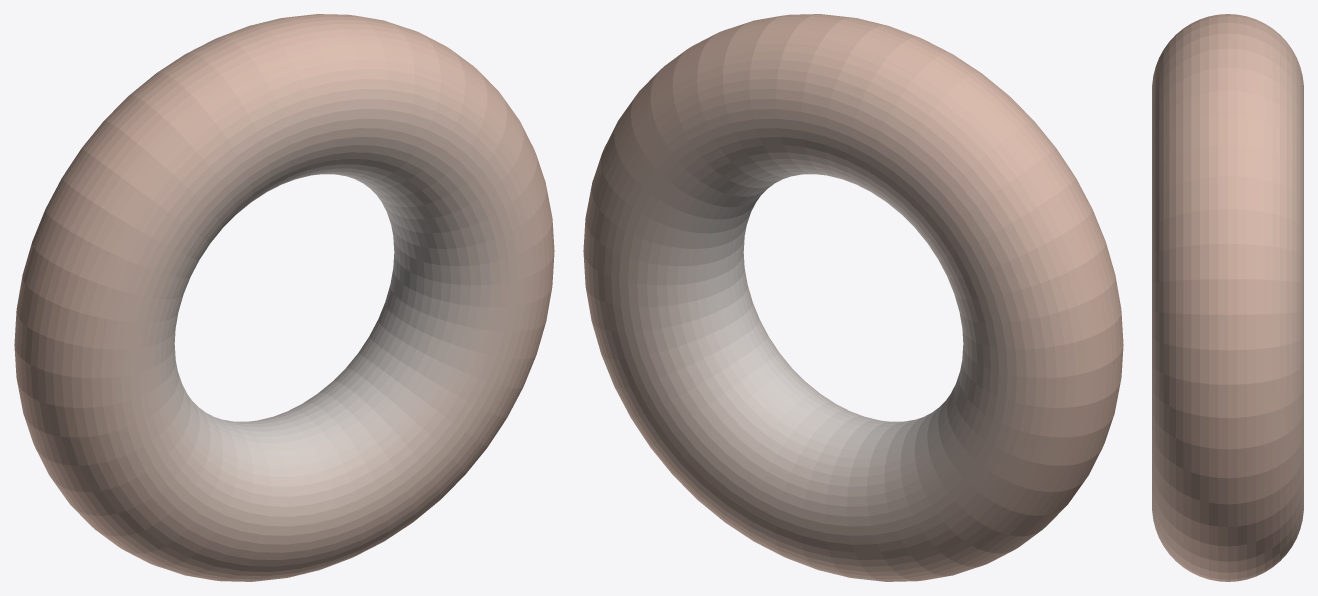
The picture shows the model from 3 angles, left to right: view 1: azimuth 30°, elevation 25°; view 2: azimuth 150°, elevation 25°; view 3: azimuth 270°, elevation 25°; orthographic projection. The views are drawn at different scales.
Visible parts, largest first — view 1: world; view 2: world; view 3: world.
Part boxes in pixels (x1,y1,x2,y2): world: [14, 14, 554, 581]; world: [583, 14, 1123, 581]; world: [1152, 14, 1303, 581].
Bounding box in the file's own units: 26.4 × 26.35 × 7.05.
